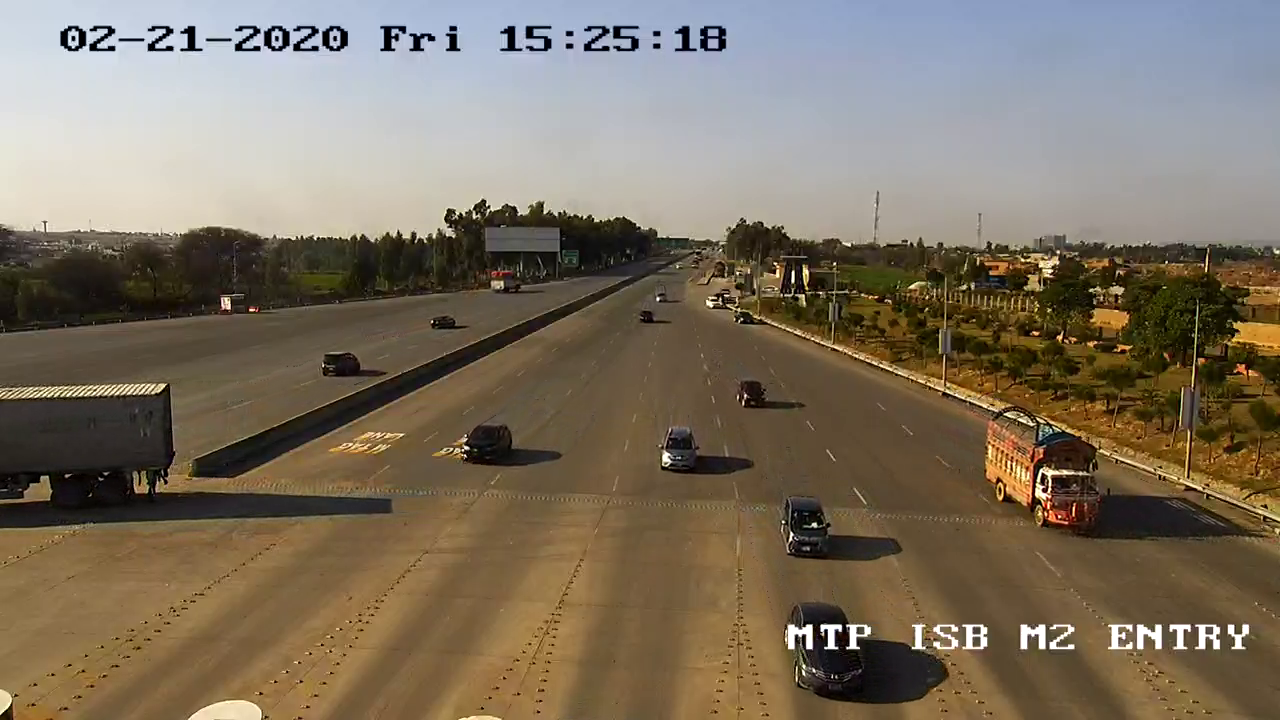f1: (774, 489, 843, 562), (452, 414, 521, 471), (656, 424, 709, 477)
f5: (983, 394, 1118, 537)
